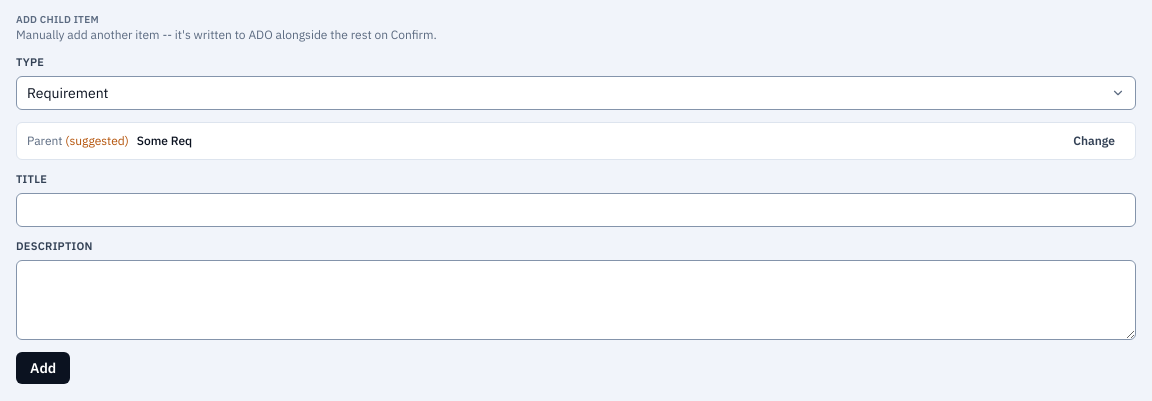
it: AddChildForm › SURVEY: offers "Top level" as a valid root option for the top category, and disables Add until one is chosen when nothing else qualifies
This screenshot has width=1152, height=401.
Click the dropdown named "type". click: coordinates (68, 93)
box: left=16, top=76, right=1136, bottom=110
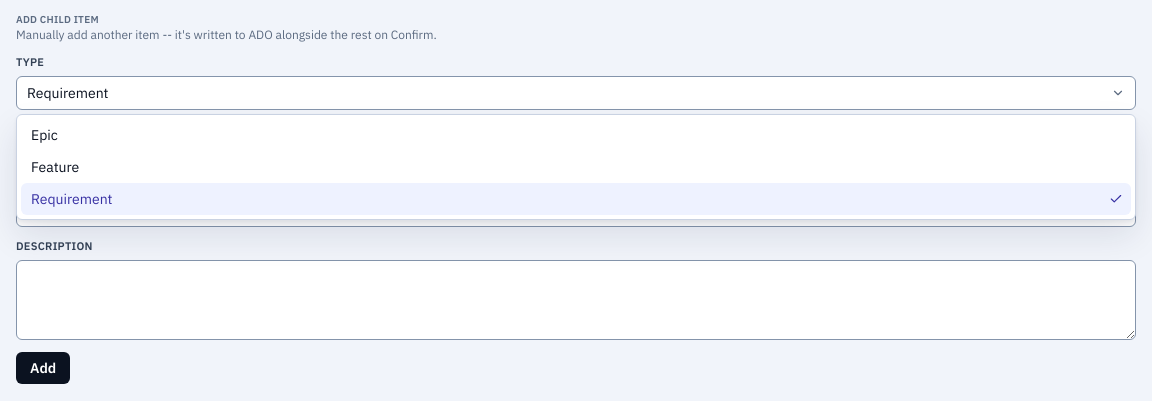
Click the option "Epic". click: coordinates (44, 135)
box: left=31, top=126, right=58, bottom=144
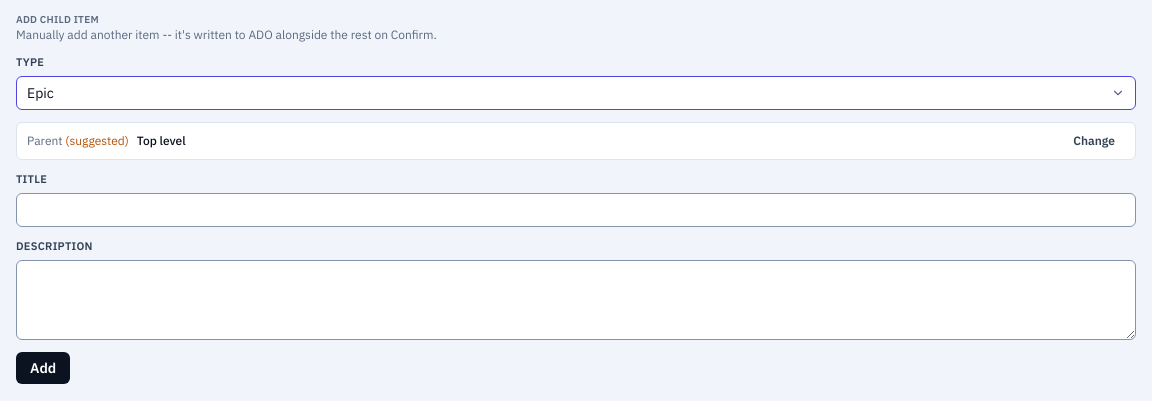
Check: the button "Add" is enabled, box left=16, top=352, right=70, bottom=384
Check: the text "Top level" is shown, box left=137, top=133, right=186, bottom=148
